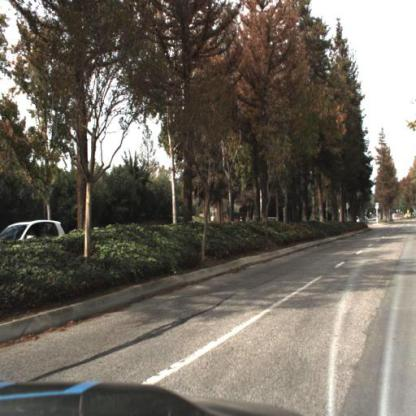car: (2, 221, 68, 272)
